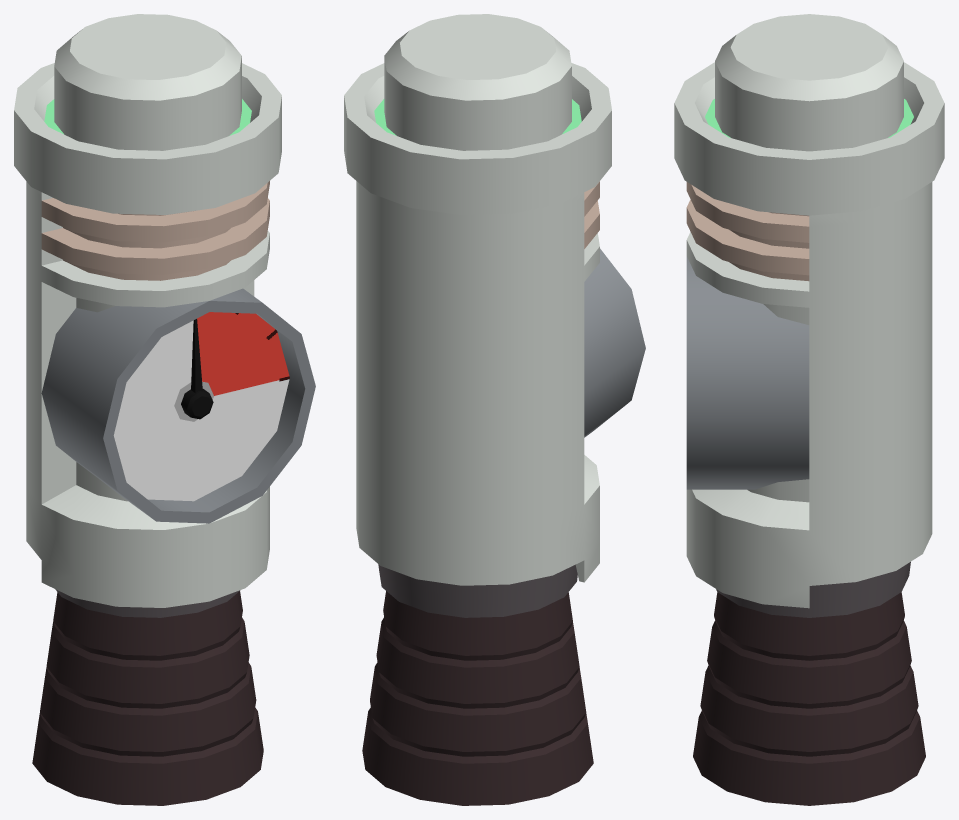
Rendered from 4T0NJetpackMageDisplayMesh.obj.
The picture shows the model from 3 angles, left to right: view 1: azimuth 30°, elevation 25°; view 2: azimuth 150°, elevation 25°; view 3: azimuth 270°, elevation 25°; orthographic projection.
Visible parts, largest first — view 1: 4-T0NJetpackMageDisplayMesh_4-T0N_Jetpack_Mage_Display; view 2: 4-T0NJetpackMageDisplayMesh_4-T0N_Jetpack_Mage_Display; view 3: 4-T0NJetpackMageDisplayMesh_4-T0N_Jetpack_Mage_Display.
Part boxes in pixels (left/top/right/bottom): 4-T0NJetpackMageDisplayMesh_4-T0N_Jetpack_Mage_Display: left=14, top=14, right=315, bottom=805; 4-T0NJetpackMageDisplayMesh_4-T0N_Jetpack_Mage_Display: left=344, top=14, right=645, bottom=805; 4-T0NJetpackMageDisplayMesh_4-T0N_Jetpack_Mage_Display: left=674, top=14, right=944, bottom=805.
Size of the model in its own units: 0.44 by 1.27 by 0.44.
1 material, 1 textured.
